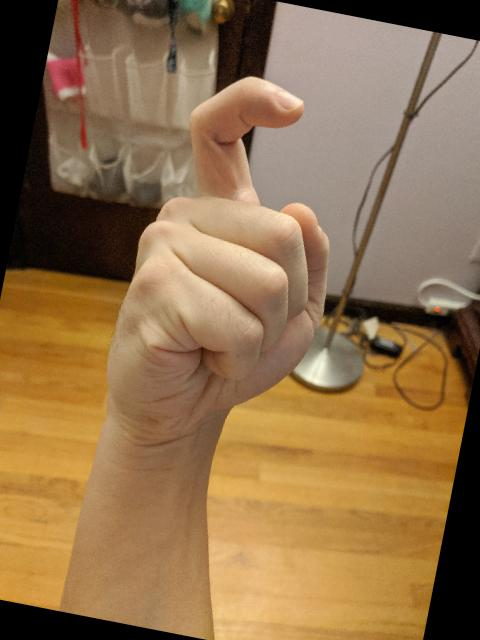X: (90, 52, 371, 458)
